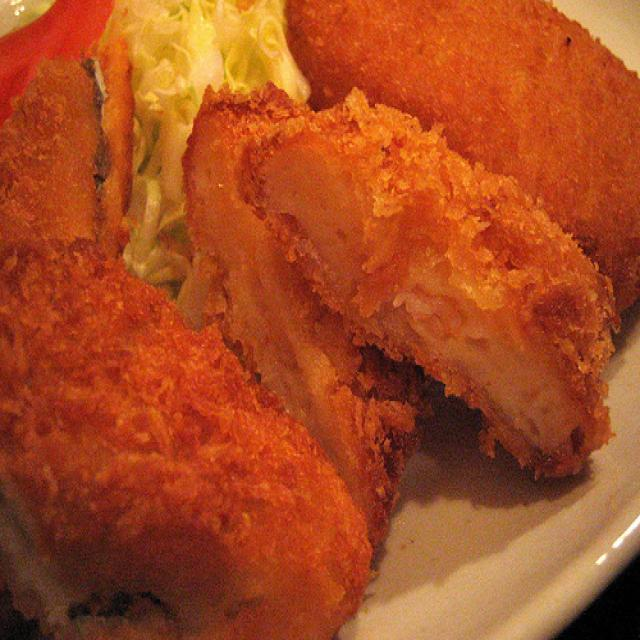炸货点心: (0, 0, 635, 640)
熟制海鲜: (0, 0, 635, 640)
